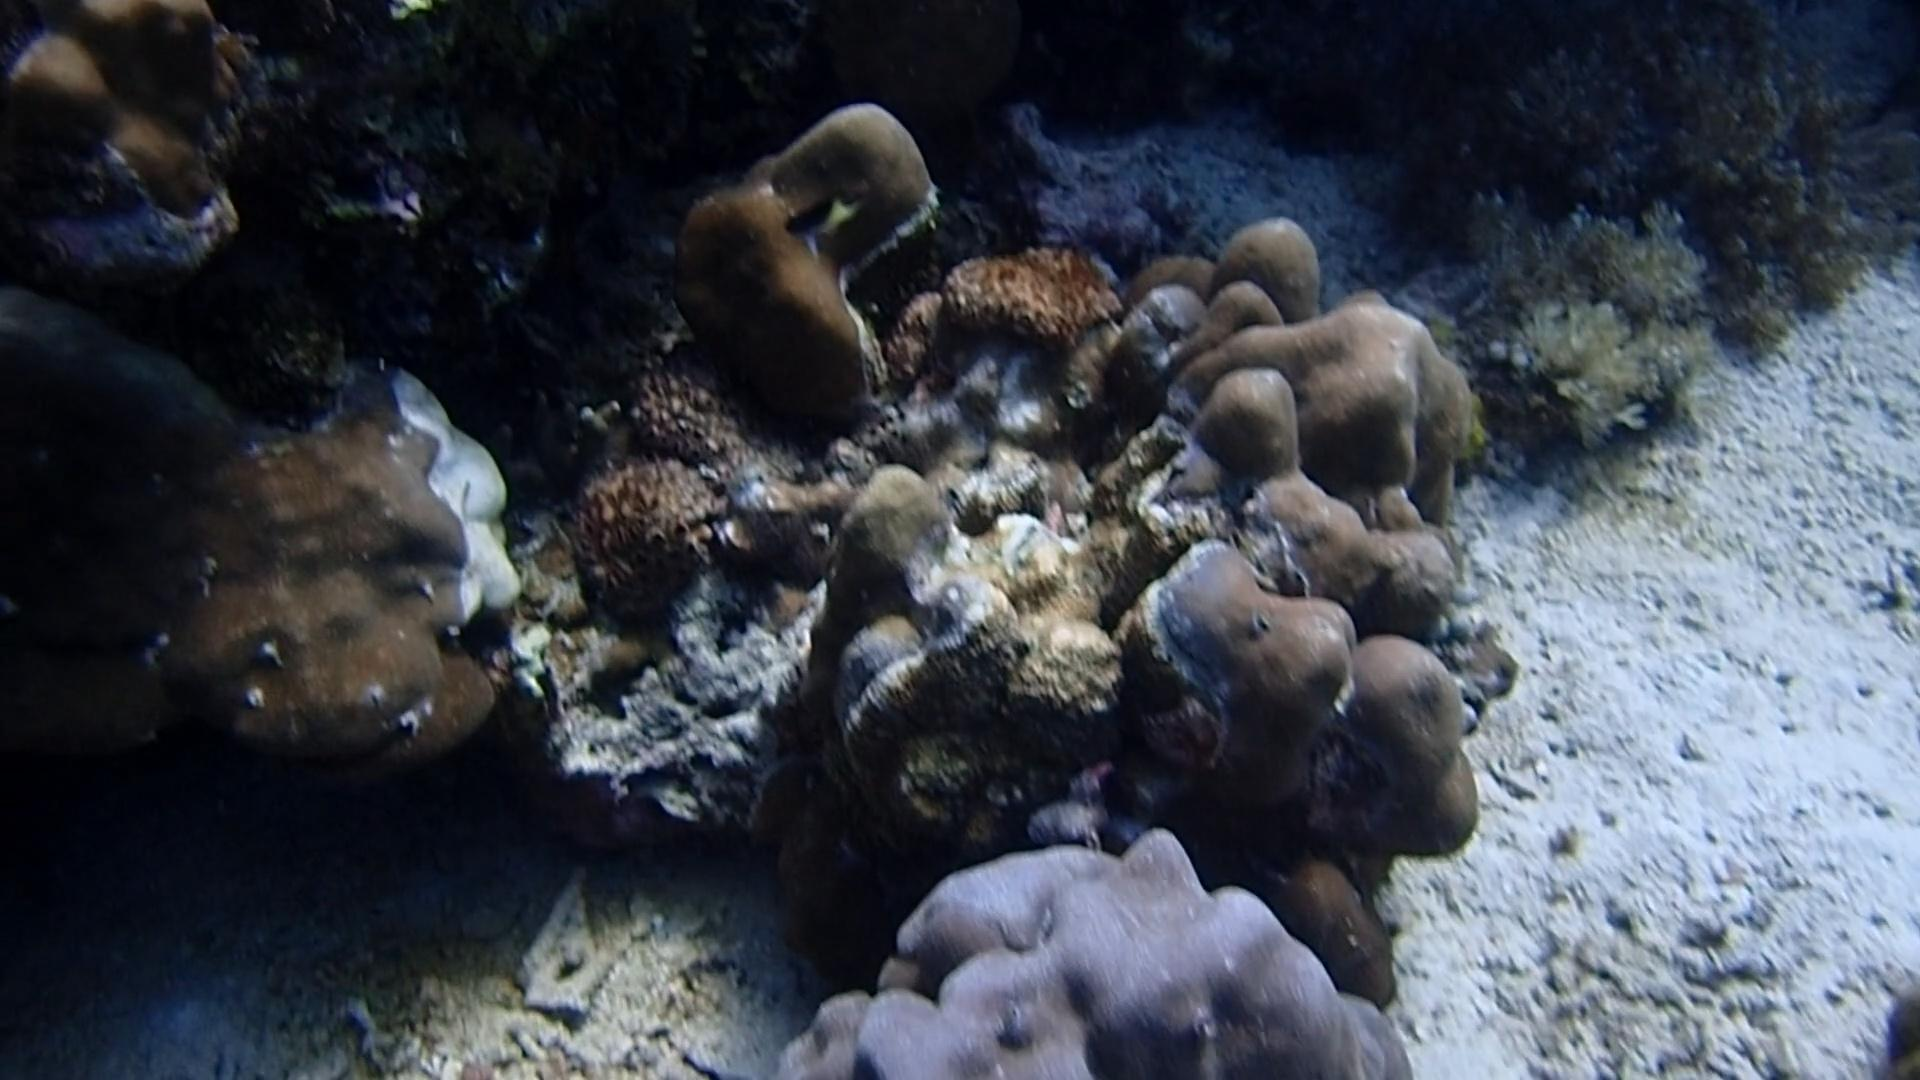Yellow Tail: (769, 187, 872, 265)
